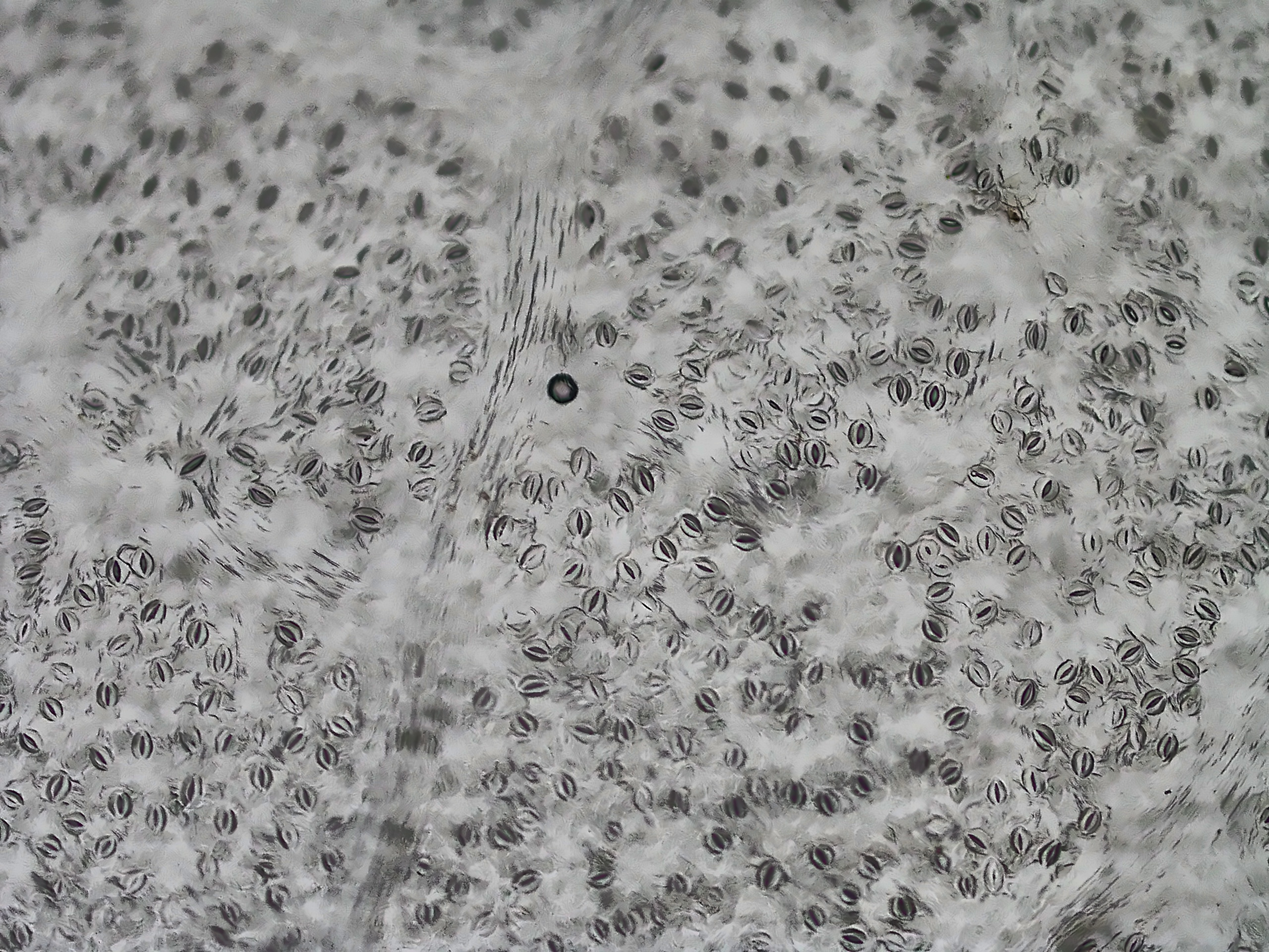stomata: (1129, 108, 1173, 141), (822, 356, 860, 388), (1127, 399, 1164, 430), (884, 376, 918, 408), (581, 673, 616, 704), (402, 313, 434, 346), (5, 919, 39, 950), (1022, 134, 1053, 168), (346, 423, 385, 450), (290, 451, 326, 480), (433, 155, 471, 182), (997, 205, 1035, 232), (758, 386, 788, 420), (486, 818, 520, 848), (83, 742, 118, 771), (864, 95, 899, 124), (243, 480, 279, 508), (173, 451, 210, 478), (350, 186, 380, 219), (756, 859, 789, 889), (95, 421, 129, 450), (33, 871, 69, 898), (1203, 125, 1226, 167), (1160, 237, 1191, 268), (732, 407, 764, 437), (650, 532, 680, 564), (150, 659, 179, 692), (1077, 20, 1105, 54), (129, 728, 154, 766), (412, 394, 447, 421), (996, 506, 1031, 533), (949, 348, 981, 377), (704, 827, 737, 855), (660, 866, 688, 899), (708, 237, 742, 264), (634, 461, 658, 499), (349, 505, 385, 530), (322, 712, 358, 737), (176, 773, 206, 803), (417, 19, 453, 44), (1219, 462, 1250, 491), (962, 827, 991, 858), (686, 556, 725, 579), (274, 682, 302, 714), (406, 187, 430, 224), (911, 75, 948, 99), (195, 684, 225, 713), (1197, 385, 1227, 414), (1234, 541, 1264, 570), (854, 853, 884, 882), (1074, 804, 1103, 834), (1168, 656, 1199, 684), (178, 174, 202, 210), (771, 627, 798, 659), (908, 661, 935, 693), (108, 787, 134, 820), (197, 40, 231, 65), (937, 521, 971, 546), (607, 487, 636, 516), (1143, 545, 1172, 574), (1154, 731, 1183, 760), (803, 403, 831, 433), (954, 302, 984, 330), (1017, 33, 1047, 61), (1192, 596, 1222, 624), (226, 439, 257, 466), (881, 193, 919, 215), (190, 333, 222, 359), (626, 295, 658, 321), (837, 154, 869, 180), (1233, 75, 1259, 107), (591, 318, 616, 351), (516, 673, 549, 698), (1117, 54, 1151, 78), (407, 439, 436, 467), (274, 617, 302, 646), (97, 900, 125, 929), (836, 237, 865, 265), (745, 606, 772, 636), (969, 599, 999, 626), (1170, 170, 1197, 200), (776, 438, 802, 469), (522, 642, 553, 668), (891, 235, 931, 255), (1060, 687, 1092, 712), (551, 772, 576, 804), (1059, 582, 1097, 603), (584, 864, 617, 888), (0, 785, 28, 813), (212, 806, 240, 834), (667, 788, 695, 816), (231, 265, 260, 292), (80, 386, 109, 413), (1041, 268, 1068, 297), (480, 767, 507, 796), (835, 202, 869, 225), (278, 731, 308, 757), (574, 201, 600, 231), (626, 233, 656, 259), (1194, 19, 1220, 49), (613, 909, 643, 935), (799, 593, 820, 630), (647, 410, 678, 435), (886, 541, 911, 572), (1202, 500, 1233, 525), (557, 617, 581, 649), (569, 721, 601, 745), (908, 341, 941, 364), (509, 870, 542, 893), (141, 601, 168, 629), (1063, 431, 1092, 457), (210, 200, 235, 230), (288, 406, 318, 431), (15, 561, 45, 586), (849, 417, 874, 447), (941, 705, 971, 730), (705, 496, 739, 518), (1094, 410, 1128, 432), (738, 447, 769, 471), (1123, 572, 1154, 596), (845, 714, 869, 745), (1025, 765, 1049, 796), (616, 631, 639, 663), (730, 529, 762, 552), (743, 320, 775, 343), (1115, 642, 1147, 665), (669, 726, 692, 758), (346, 331, 381, 352), (1153, 301, 1188, 322), (658, 137, 685, 164), (680, 172, 707, 199), (680, 357, 707, 384), (1030, 723, 1057, 750), (219, 896, 245, 924), (106, 636, 139, 658), (1034, 75, 1067, 97), (55, 607, 80, 636), (680, 509, 705, 538), (1117, 301, 1142, 330), (358, 380, 388, 404), (1062, 307, 1086, 337), (1227, 271, 1257, 295), (519, 756, 543, 786), (132, 548, 155, 579), (622, 364, 653, 387), (932, 19, 963, 42), (379, 243, 411, 265), (857, 462, 879, 494), (243, 351, 270, 377), (718, 191, 745, 217), (799, 903, 825, 930), (19, 526, 54, 546), (143, 801, 168, 829), (176, 727, 200, 756), (250, 763, 274, 792), (677, 394, 706, 418), (766, 476, 795, 500), (924, 579, 953, 603), (640, 673, 669, 697), (570, 505, 591, 538), (1021, 619, 1042, 652), (96, 682, 119, 712), (707, 128, 737, 151), (521, 544, 544, 574), (34, 835, 65, 857), (276, 818, 298, 849), (652, 268, 692, 285), (1199, 64, 1216, 104), (1171, 628, 1205, 648), (71, 582, 97, 608), (391, 94, 418, 119), (449, 360, 476, 385), (567, 447, 592, 474), (917, 539, 942, 566), (1034, 476, 1061, 501), (967, 660, 992, 687), (331, 260, 359, 284), (48, 659, 76, 683), (614, 716, 638, 744), (93, 831, 116, 860), (510, 712, 539, 735), (726, 792, 749, 821), (491, 509, 509, 546), (164, 298, 186, 328), (47, 773, 69, 803), (923, 380, 943, 413), (936, 213, 966, 235), (1004, 547, 1034, 569), (139, 170, 160, 201), (292, 783, 313, 814), (13, 619, 39, 644), (213, 730, 239, 755), (866, 344, 892, 369), (1014, 389, 1040, 414), (1134, 196, 1159, 222), (1053, 658, 1079, 683), (1143, 690, 1169, 715), (1072, 749, 1097, 775), (789, 133, 807, 169), (1019, 431, 1046, 455), (1007, 828, 1034, 852), (660, 630, 683, 658), (903, 261, 926, 289), (967, 463, 995, 486), (1015, 679, 1038, 707), (839, 928, 867, 951), (20, 496, 52, 516), (243, 301, 265, 330), (106, 557, 128, 586), (584, 587, 606, 616), (637, 592, 659, 621), (931, 845, 952, 875), (258, 182, 275, 219), (764, 86, 797, 105), (317, 226, 341, 252), (647, 100, 673, 124), (616, 562, 642, 586), (986, 410, 1010, 436), (346, 458, 369, 485), (1114, 526, 1141, 549), (693, 689, 720, 712), (808, 845, 835, 868), (717, 80, 748, 100), (422, 49, 453, 69), (318, 743, 340, 771), (610, 115, 632, 143), (515, 3, 537, 31), (712, 590, 734, 618), (1160, 479, 1188, 501), (454, 284, 484, 304), (38, 695, 62, 720), (750, 142, 774, 167), (517, 473, 541, 498), (443, 208, 466, 234), (444, 875, 467, 901), (275, 120, 297, 147), (132, 265, 154, 292), (55, 919, 82, 941), (489, 30, 511, 57), (935, 759, 962, 781), (707, 643, 726, 674), (725, 359, 756, 378), (187, 621, 208, 649), (62, 813, 90, 834), (644, 54, 673, 74), (1163, 333, 1192, 353), (1232, 28, 1252, 57), (1083, 527, 1103, 556), (18, 728, 42, 752), (774, 178, 792, 210), (632, 787, 656, 811), (1225, 357, 1250, 380), (411, 478, 437, 500), (382, 137, 408, 159), (1095, 475, 1121, 497), (1183, 541, 1205, 567), (323, 160, 353, 179), (203, 271, 222, 301), (444, 242, 471, 263), (293, 651, 320, 672), (200, 851, 221, 878), (851, 772, 878, 793), (1246, 236, 1269, 260), (783, 783, 806, 807), (168, 127, 187, 156), (451, 826, 476, 848), (176, 81, 202, 102), (228, 154, 249, 180), (732, 42, 758, 63), (773, 685, 793, 712), (725, 745, 745, 772), (334, 663, 353, 691), (817, 792, 840, 815), (770, 39, 792, 63), (1115, 12, 1139, 34), (690, 333, 721, 350), (118, 311, 139, 336), (319, 848, 340, 873), (122, 871, 147, 892), (112, 228, 130, 257), (808, 441, 827, 468), (852, 664, 871, 691), (217, 645, 233, 677), (254, 860, 277, 882), (268, 887, 290, 910), (250, 37, 272, 60), (327, 123, 345, 151), (471, 687, 495, 708), (1027, 320, 1045, 348), (895, 895, 916, 919), (987, 782, 1011, 803), (35, 133, 55, 158), (921, 616, 941, 641), (927, 296, 947, 321), (1184, 442, 1204, 467), (1042, 839, 1060, 866), (90, 175, 112, 197), (281, 57, 303, 79), (779, 326, 801, 348), (744, 678, 766, 700), (1058, 162, 1079, 185), (947, 159, 971, 179), (932, 124, 956, 144), (1090, 665, 1114, 685), (1180, 694, 1204, 714), (989, 861, 1004, 893), (239, 100, 264, 119), (453, 337, 479, 355), (560, 557, 581, 579), (545, 479, 566, 501), (293, 198, 313, 221), (409, 855, 436, 872), (58, 18, 77, 42), (932, 556, 956, 575), (1162, 54, 1177, 84), (846, 326, 871, 344), (957, 870, 975, 895), (322, 357, 348, 374), (1213, 565, 1234, 586), (766, 279, 790, 297), (605, 816, 625, 837), (602, 759, 621, 781), (215, 77, 238, 95), (1131, 344, 1149, 367), (811, 291, 834, 309), (138, 128, 155, 152), (1135, 489, 1152, 513), (785, 713, 802, 737), (96, 23, 127, 36), (58, 169, 74, 194), (1130, 723, 1148, 745), (10, 77, 24, 105), (1136, 446, 1164, 460), (783, 231, 799, 255), (350, 87, 370, 106), (1095, 347, 1114, 367), (91, 50, 116, 65), (49, 54, 71, 71), (123, 82, 145, 99), (778, 365, 795, 387), (979, 529, 995, 552), (818, 65, 831, 92), (841, 884, 861, 901), (1111, 706, 1127, 727), (798, 378, 813, 400), (1108, 500, 1131, 514), (700, 890, 720, 906), (976, 169, 994, 186), (412, 902, 431, 918), (83, 143, 95, 168), (831, 282, 849, 297), (807, 665, 825, 680), (304, 98, 318, 115)
